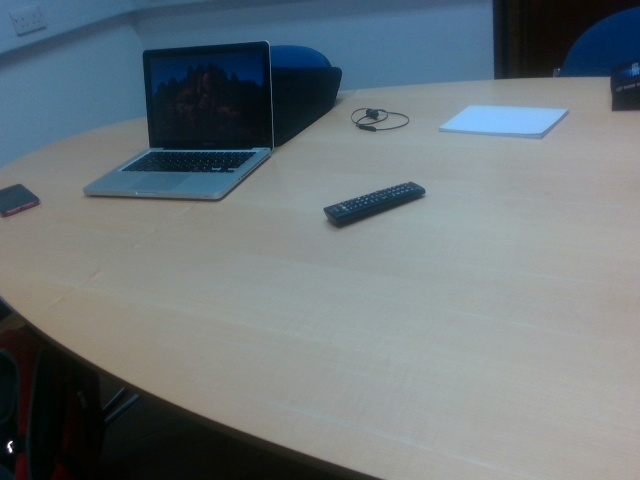remote: (324, 182, 424, 227)
